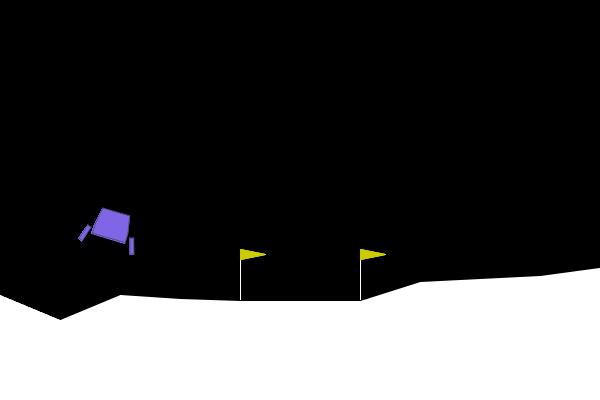lander: (77, 202, 145, 257)
